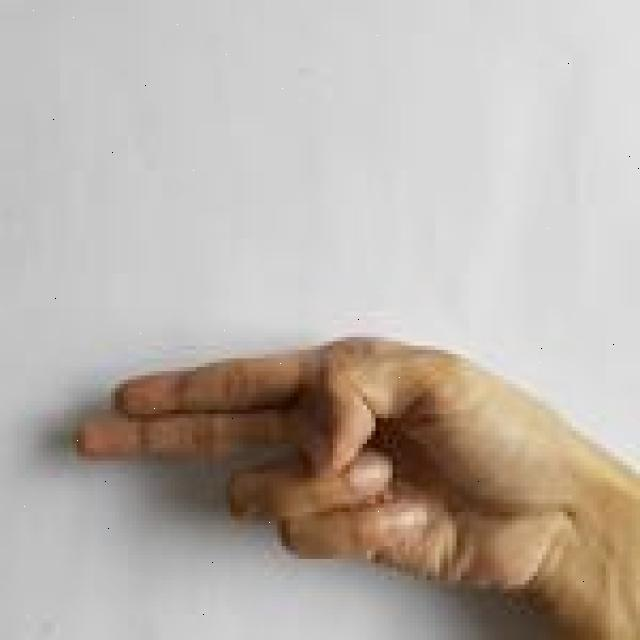H: (66, 327, 640, 640)
